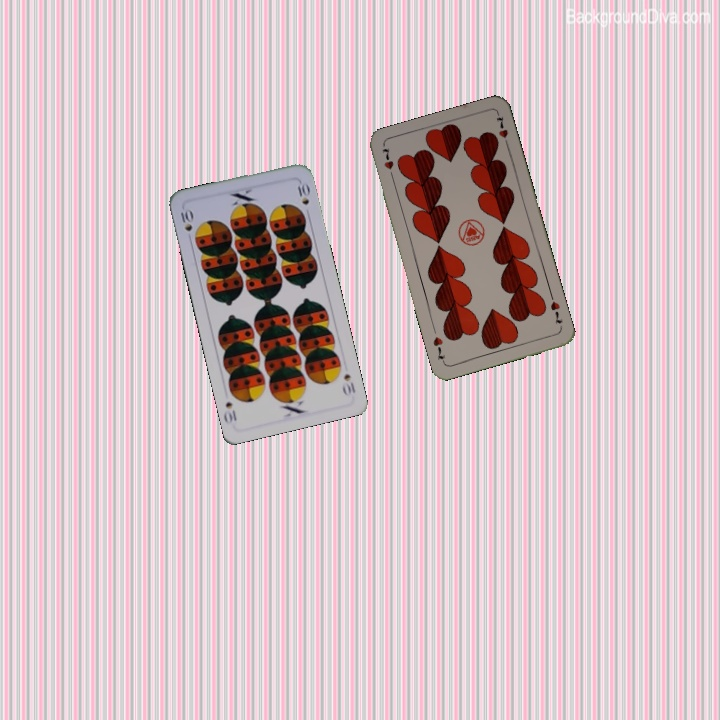H7: (378, 144, 396, 183), (546, 297, 565, 327)
S10: (176, 204, 199, 244), (338, 369, 358, 398)
